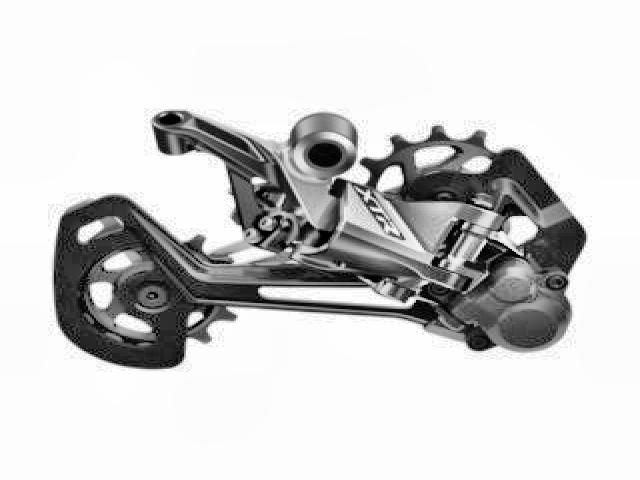rear_derailleur: (49, 106, 590, 371)
